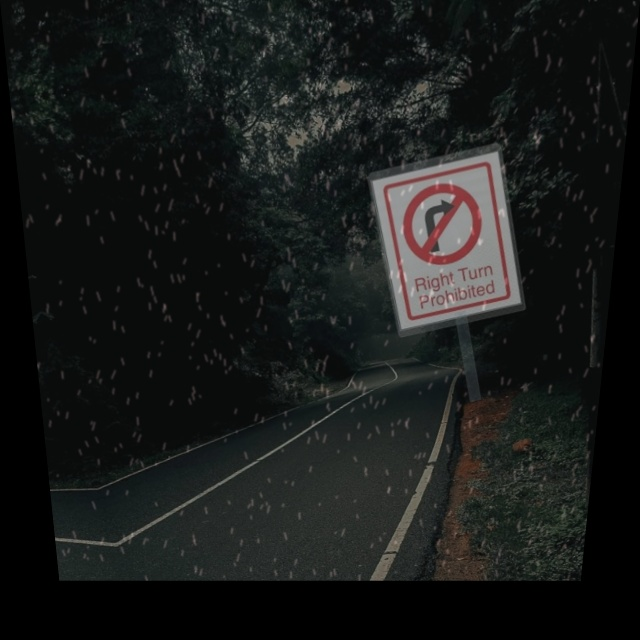Right_Turn_Prohibited: (384, 165, 505, 278)
